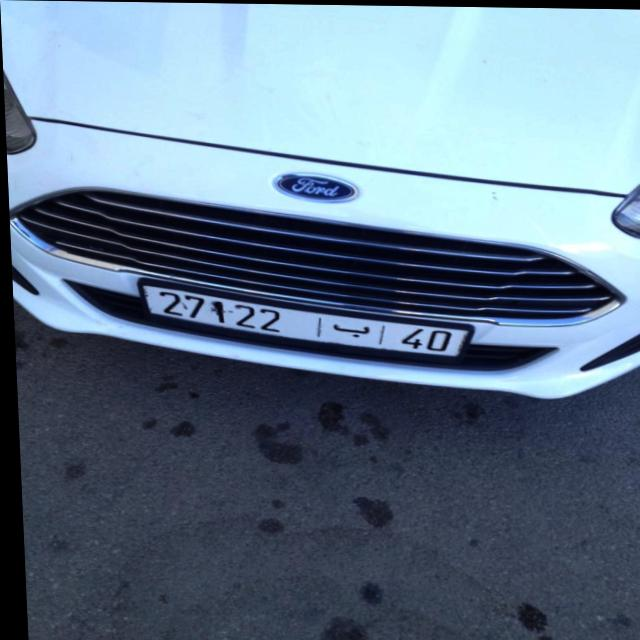License-Plate: (138, 283, 468, 360)
